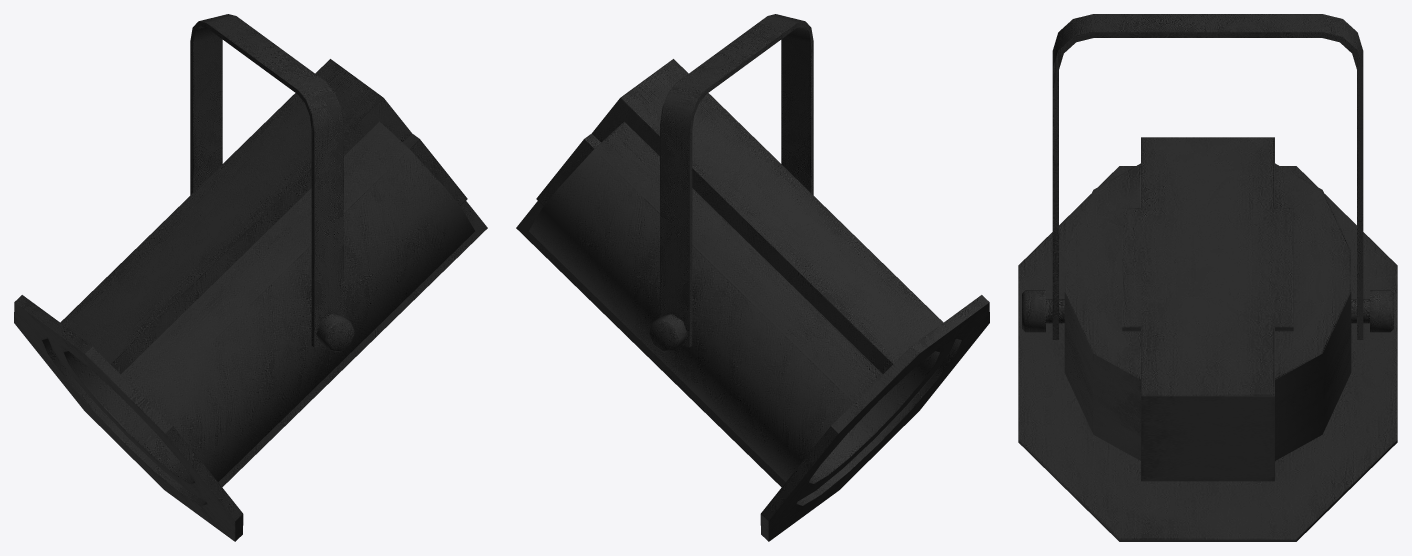
The model's file is SM_StageLight_01.fbx.
The picture shows the model from 3 angles, left to right: view 1: azimuth 30°, elevation 25°; view 2: azimuth 150°, elevation 25°; view 3: azimuth 270°, elevation 25°; orthographic projection. The views are drawn at different scales.
Parts seen in each view (by area): view 1: SM_StageLight_01_LOD0; view 2: SM_StageLight_01_LOD0; view 3: SM_StageLight_01_LOD0.
Part boxes in pixels (<box>): SM_StageLight_01_LOD0: <box>14,14,487,541</box>; SM_StageLight_01_LOD0: <box>516,14,989,541</box>; SM_StageLight_01_LOD0: <box>1018,14,1397,541</box>.
Size of the model in its own units: 47.13 by 30 by 48.86.
Materials: 1 (1 with a texture image).
